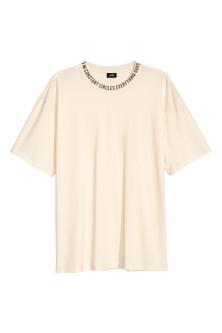teeshirt: (10, 58, 218, 282)
